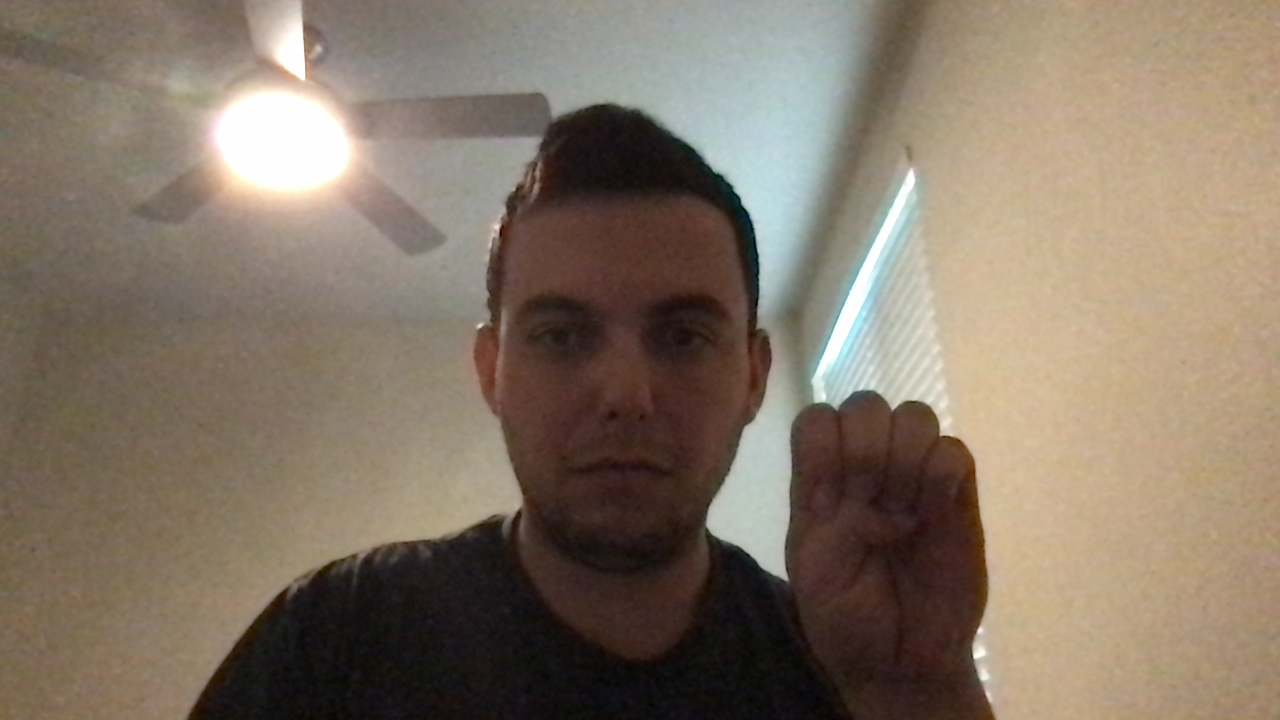e: (773, 399, 1011, 683)
